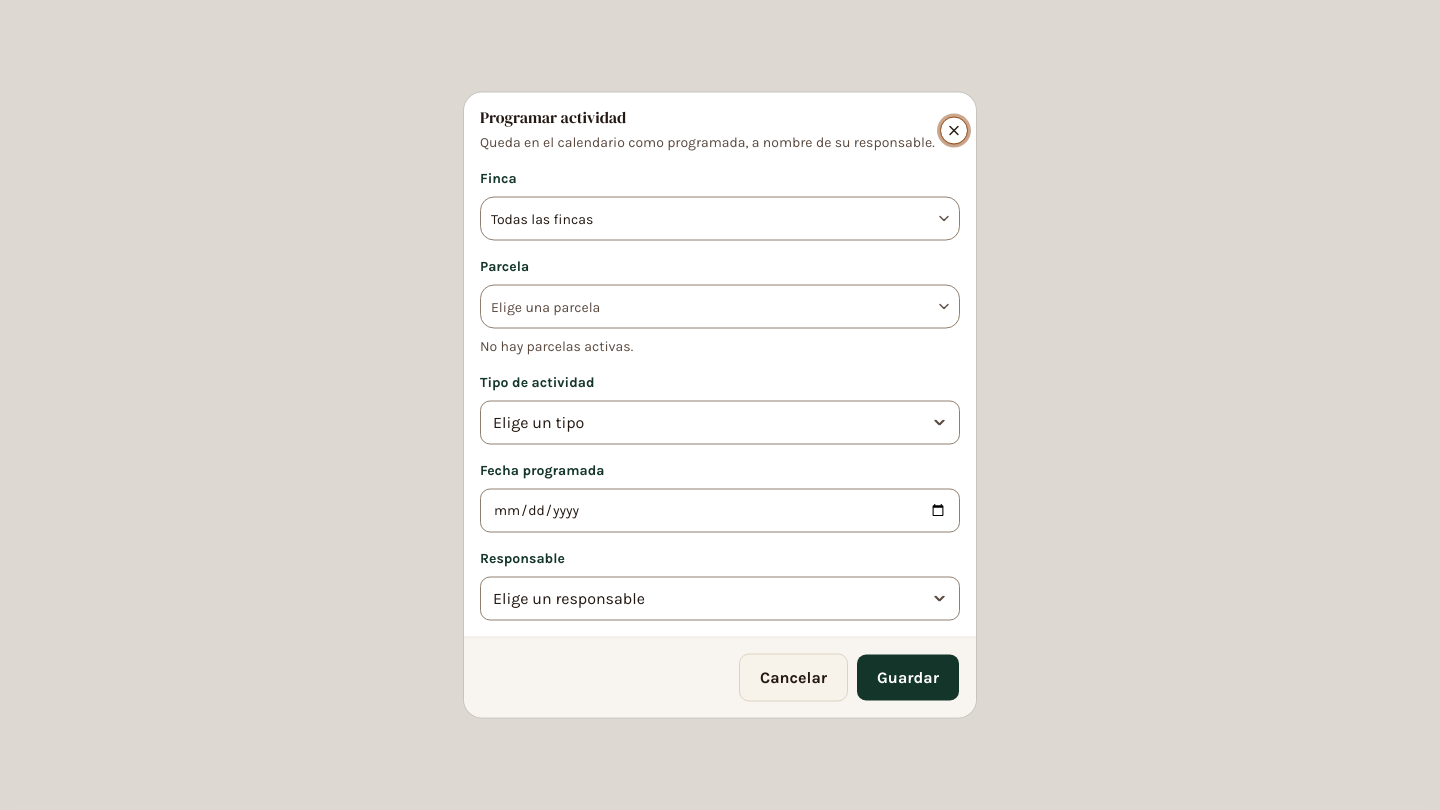
Scenario: ActivityFormDialog › says that a farm has no active plots
Click the dropdown labelled "Finca" at (706, 218), box [481,202,932,234]
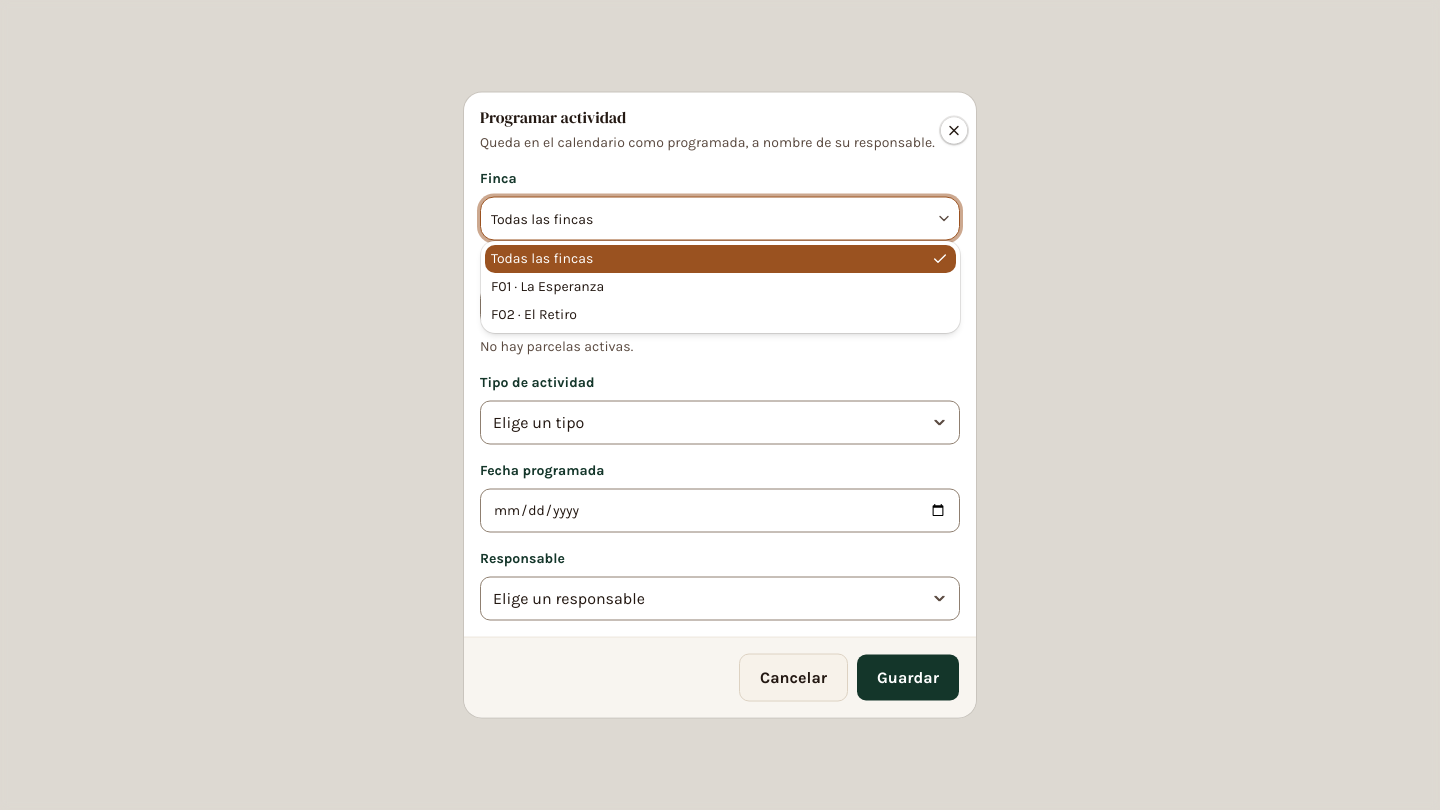
Click the option "F01 · La Esperanza" at (548, 286), box [491,278,604,295]
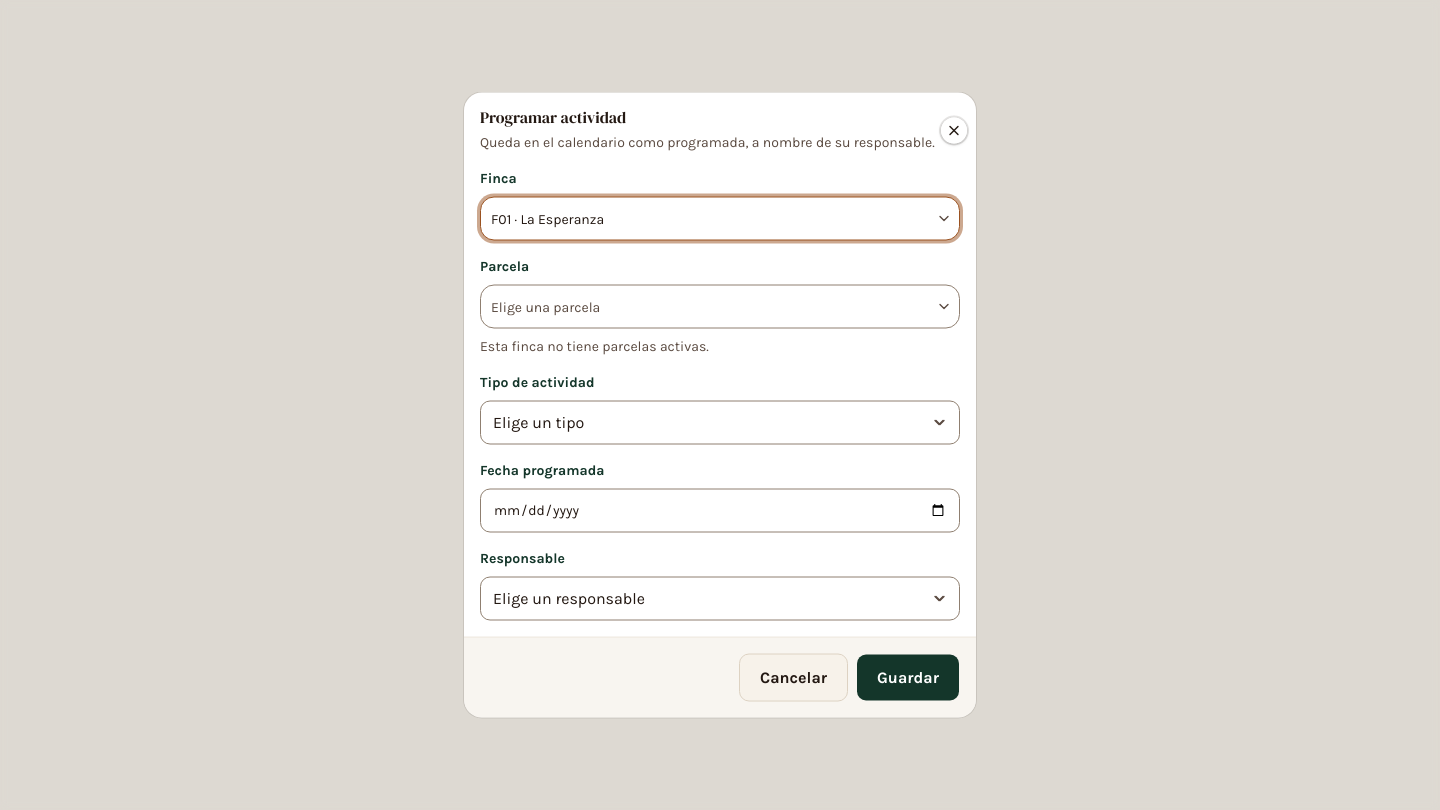
Expected: the text "Esta finca no tiene parcelas activas." is shown, [480,338,709,354]
